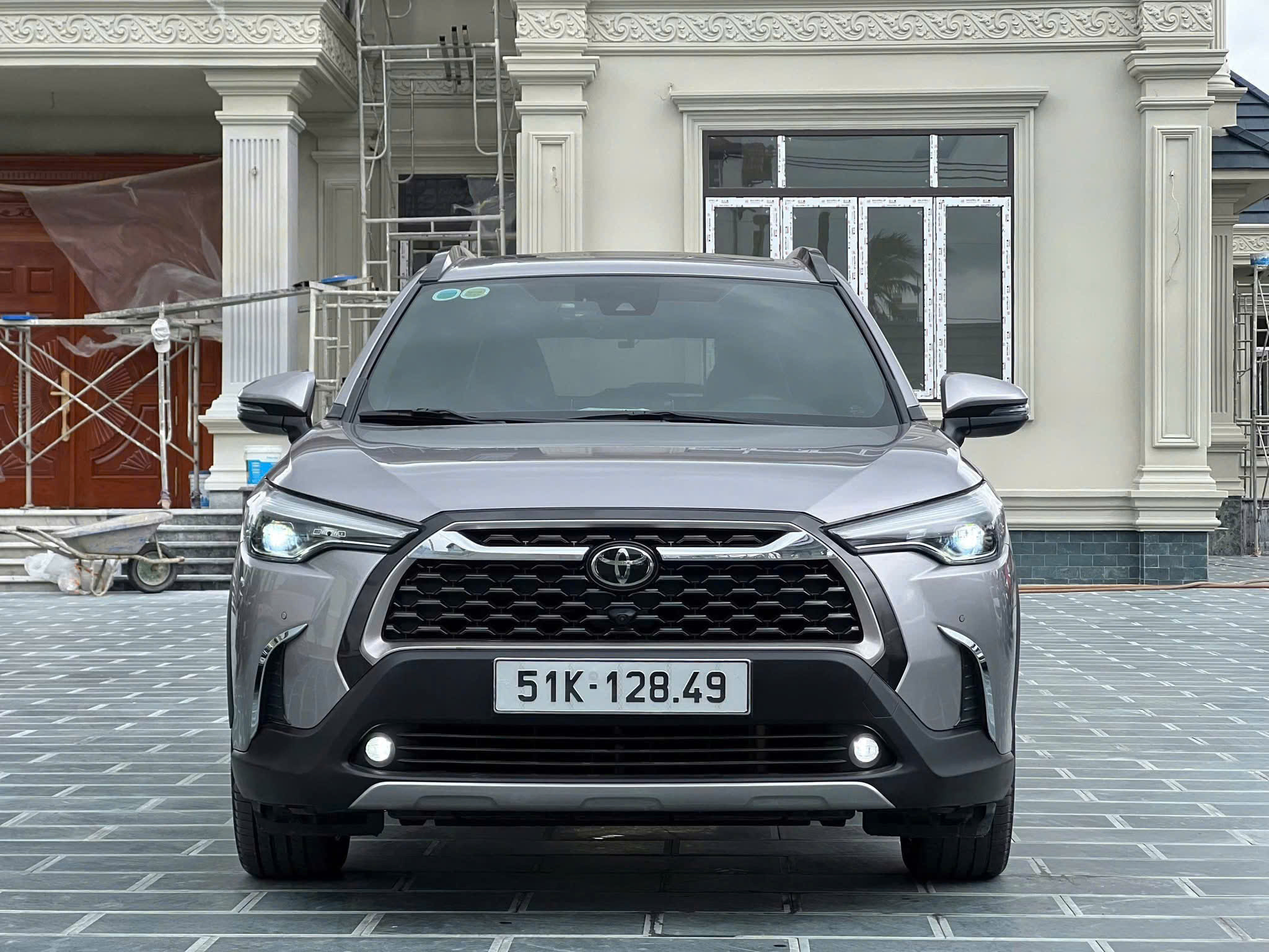Bien-so: (490, 652, 755, 712)
